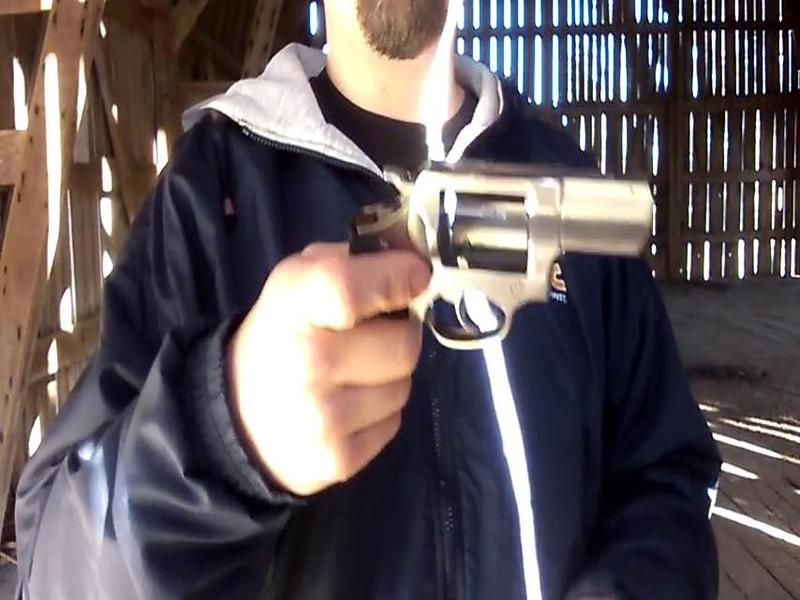Revolver: (319, 116, 678, 386)
